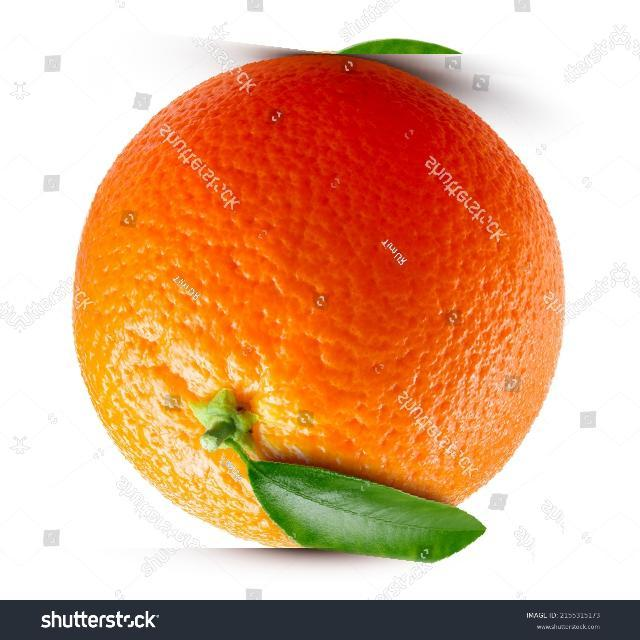Orange: (70, 51, 566, 553)
